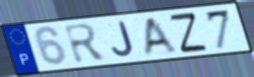6: (33, 24, 70, 68)
7: (204, 9, 234, 50)
A: (142, 15, 179, 58)
J: (111, 20, 136, 58)
R: (62, 22, 110, 65)
Z: (167, 11, 210, 55)
